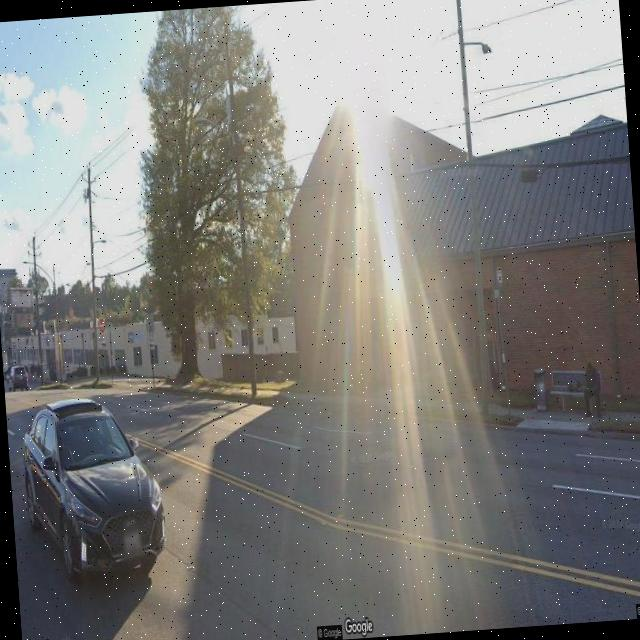trash_can: (533, 366, 548, 411)
